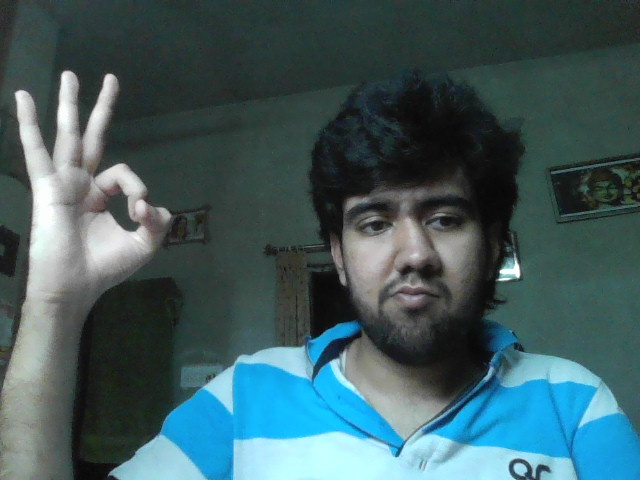Nice: (15, 70, 173, 290)
